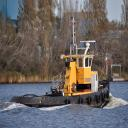tugboat: (9, 17, 113, 113)
